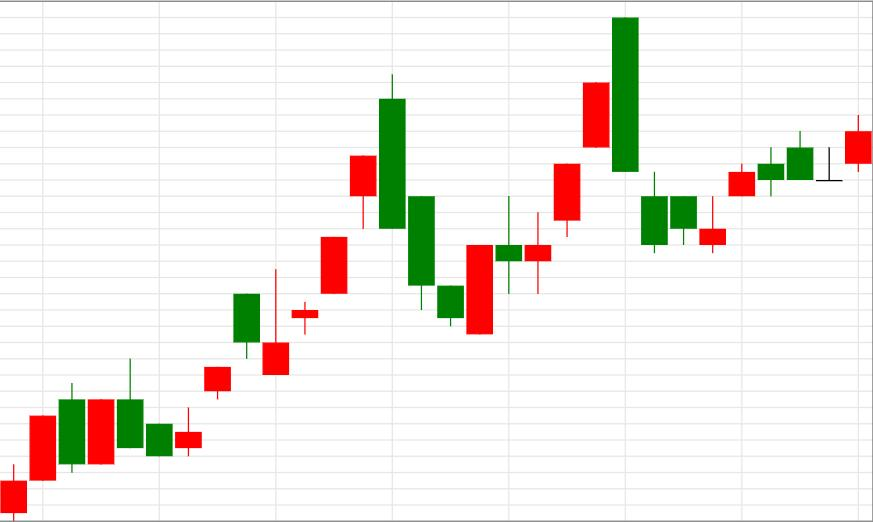bearish_engulfing_fall: (467, 17, 638, 334), (262, 75, 406, 375)
